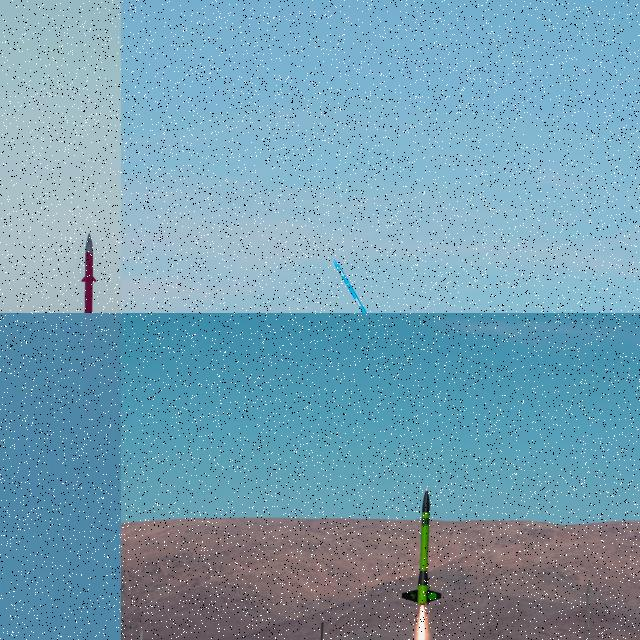Rocket: (400, 487, 442, 606), (71, 232, 105, 313), (333, 259, 368, 313)
